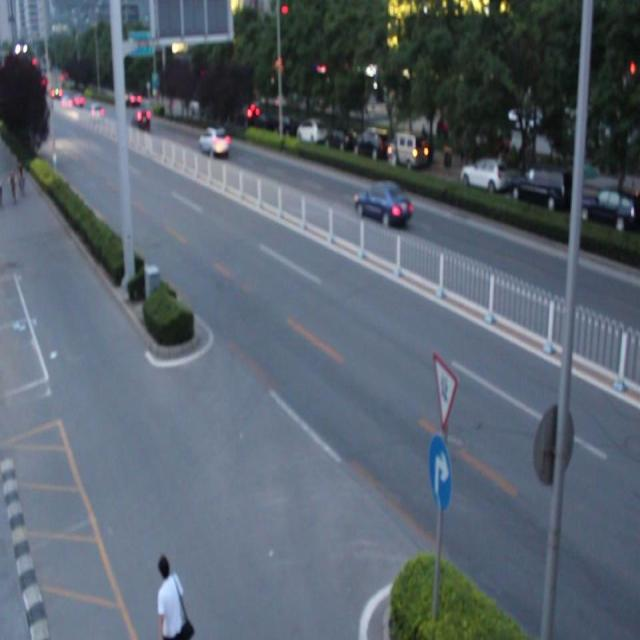car: (352, 180, 412, 224)
